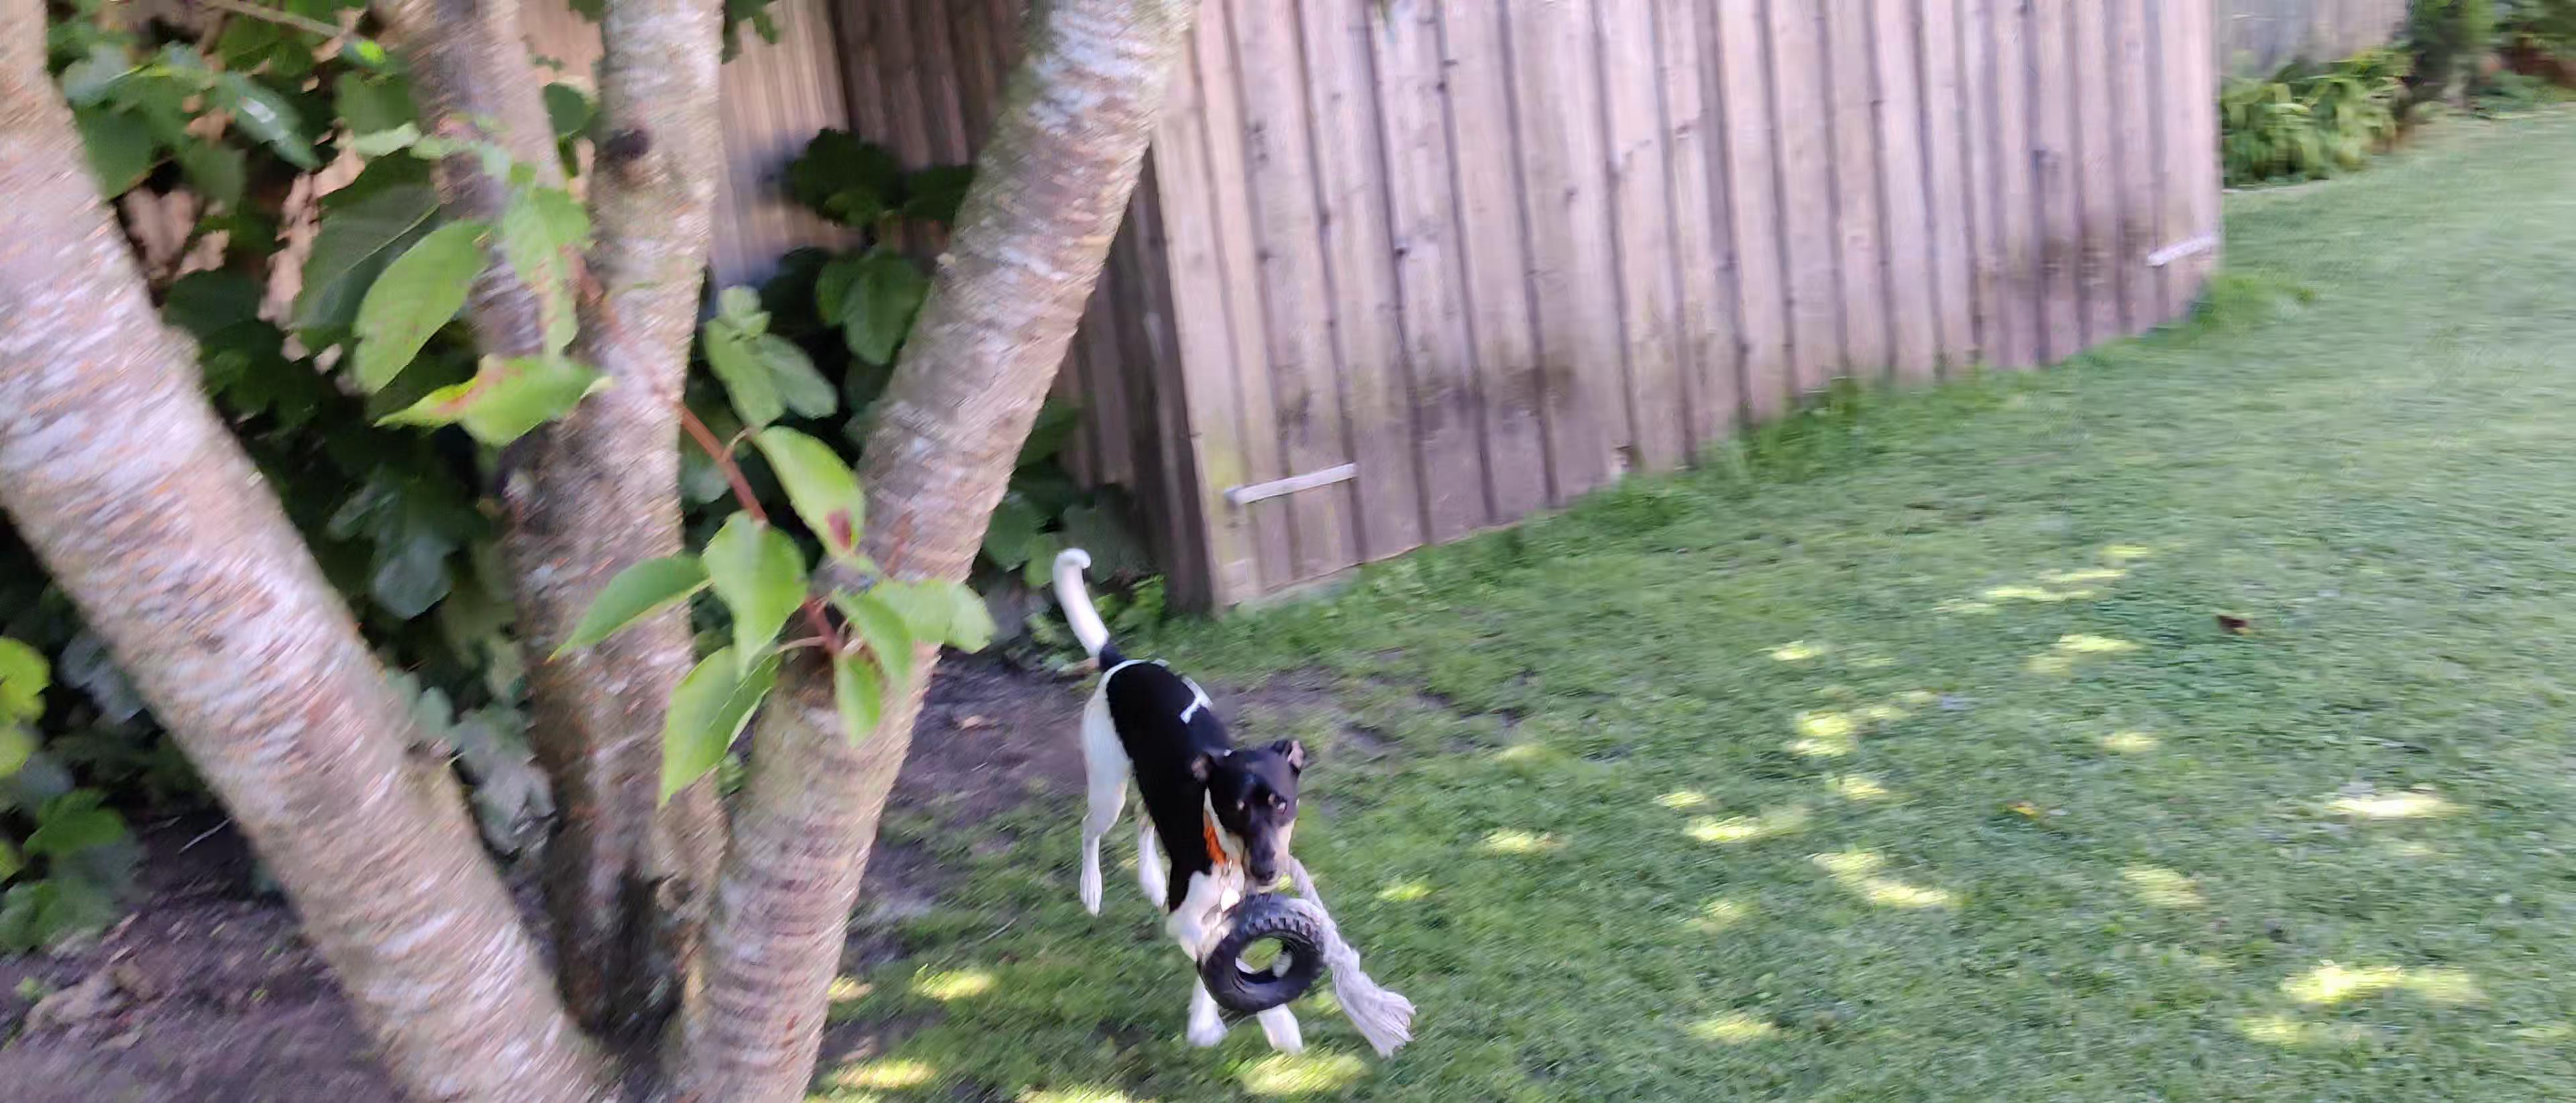Dog: (1025, 529, 1334, 1068)
